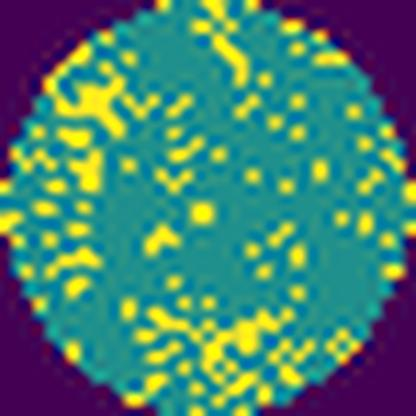Loc: (143, 302, 297, 399), (55, 68, 128, 135)
